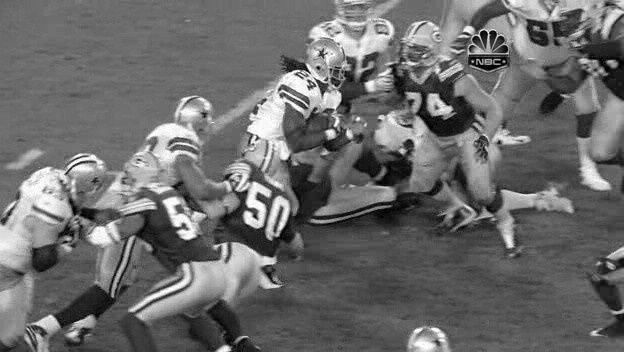person: (313, 42, 347, 86), (312, 42, 346, 86), (314, 42, 348, 86), (313, 41, 347, 85), (313, 43, 347, 87)
target_negative: (180, 159, 570, 345), (265, 77, 596, 151), (448, 163, 574, 226), (567, 9, 588, 330), (405, 247, 612, 260), (246, 289, 341, 303)
